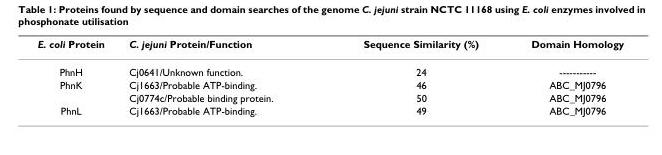table: (36, 37, 623, 116)
table column: (116, 37, 317, 116), (317, 37, 504, 116), (504, 37, 623, 116), (36, 37, 116, 116)
table column header: (36, 37, 623, 57)
table row: (36, 57, 623, 78), (36, 37, 623, 57), (36, 78, 623, 91), (36, 103, 623, 116), (36, 91, 623, 103)
table spanning cell: (36, 78, 116, 103)
